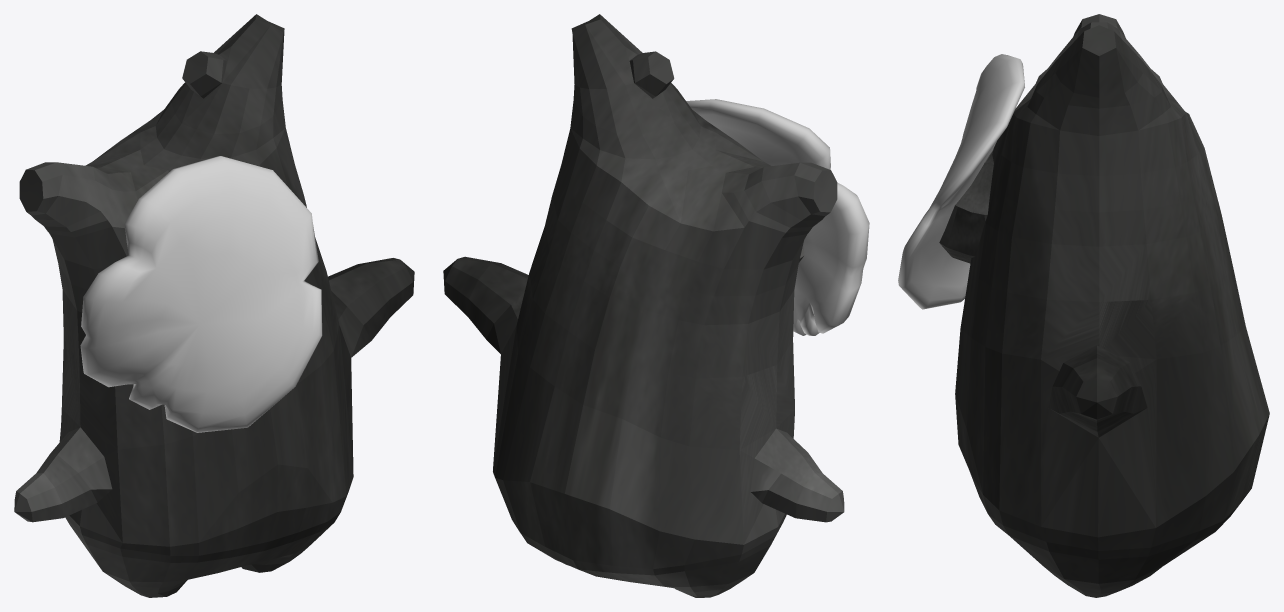
The model's file is frame_0008.obj.
3 renders of one model, left to right at view 1: azimuth 30°, elevation 25°; view 2: azimuth 150°, elevation 25°; view 3: azimuth 270°, elevation 25°, orthographic. The views are drawn at different scales.
Parts seen in each view (by area): view 1: korok, leaf; view 2: korok, leaf; view 3: korok, leaf, nose.
Part boxes in pixels (left/top/right/bottom): korok: left=14, top=14, right=414, bottom=597; leaf: left=80, top=156, right=322, bottom=432; korok: left=443, top=14, right=844, bottom=597; leaf: left=686, top=99, right=869, bottom=335; korok: left=955, top=14, right=1269, bottom=597; leaf: left=898, top=54, right=1024, bottom=309; nose: left=939, top=148, right=993, bottom=263.
Size of the model in its own units: 1.76 by 2.32 by 1.38.
